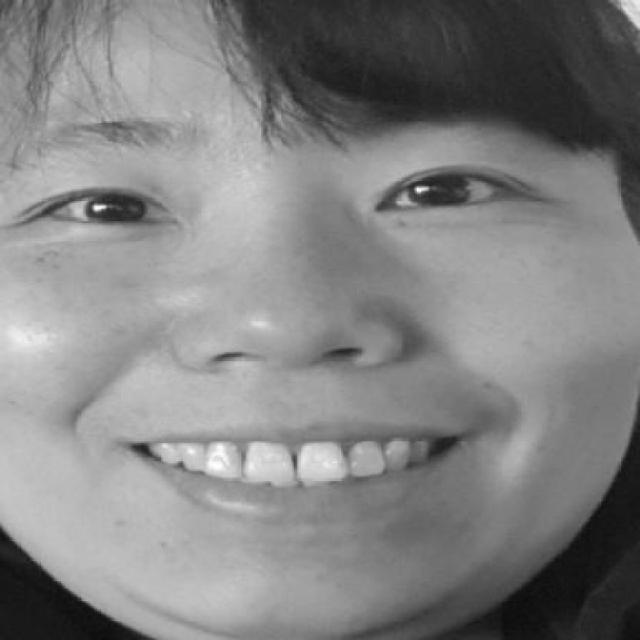happy: (0, 118, 603, 524)
